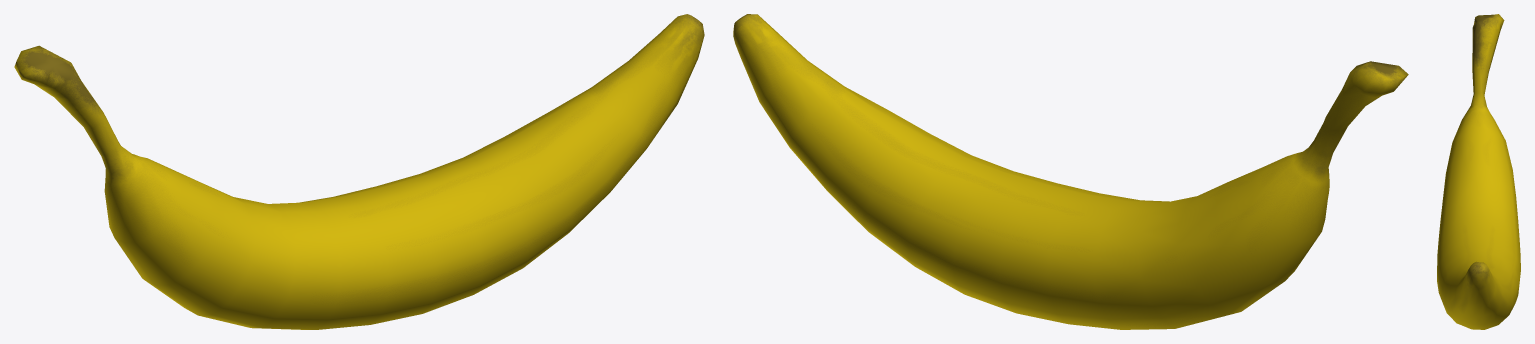
File: banana.fbx
The picture shows the model from 3 angles, left to right: view 1: azimuth 30°, elevation 25°; view 2: azimuth 150°, elevation 25°; view 3: azimuth 270°, elevation 25°; orthographic projection. The views are drawn at different scales.
Visible parts, largest first — view 1: banana_low; view 2: banana_low; view 3: banana_low.
Boxes of the visible parts, box(x1,y1,x2,y2) form: banana_low: box(14, 14, 704, 329); banana_low: box(733, 14, 1408, 329); banana_low: box(1437, 14, 1520, 329).
Size of the model in its own units: 462 by 218 by 85.04.
Materials: 1 (1 with a texture image).
